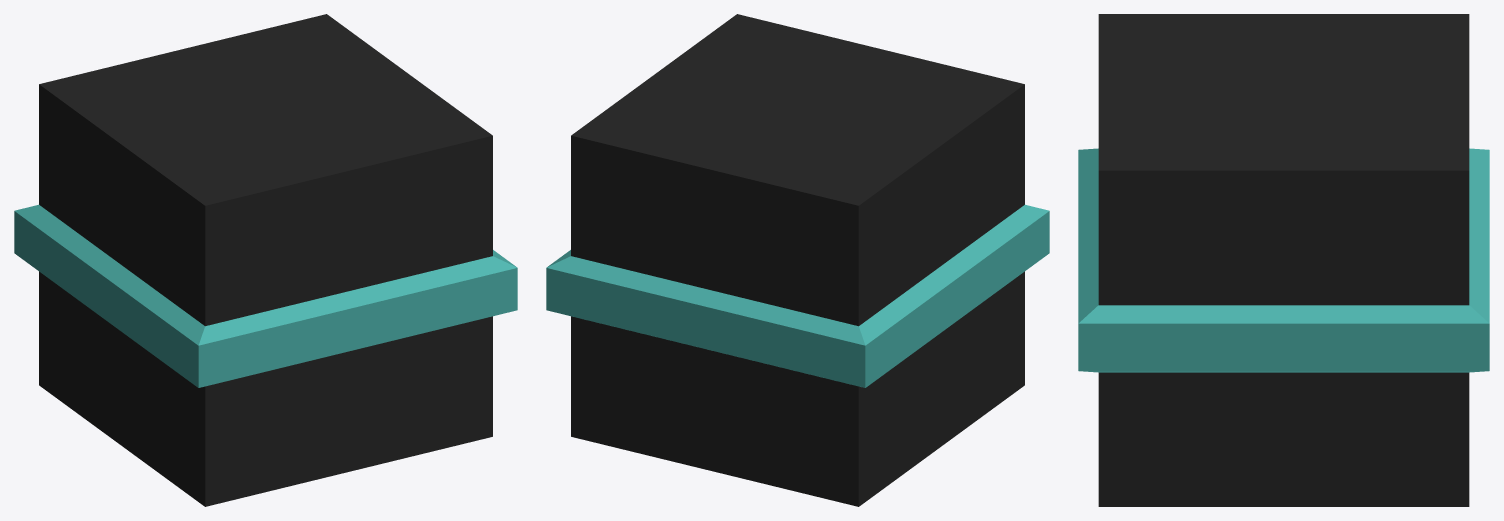
The model's file is Block.fbx.
3 renders of one model, left to right at view 1: azimuth 30°, elevation 25°; view 2: azimuth 150°, elevation 25°; view 3: azimuth 270°, elevation 25°, orthographic. The views are drawn at different scales.
Visible parts, largest first — view 1: Cube; view 2: Cube; view 3: Cube.
Boxes of the visible parts, box(x1,y1,x2,y2) form: Cube: box(14, 14, 517, 506); Cube: box(546, 14, 1049, 506); Cube: box(1078, 14, 1489, 506).
Size of the model in its own units: 444 by 400 by 444.
